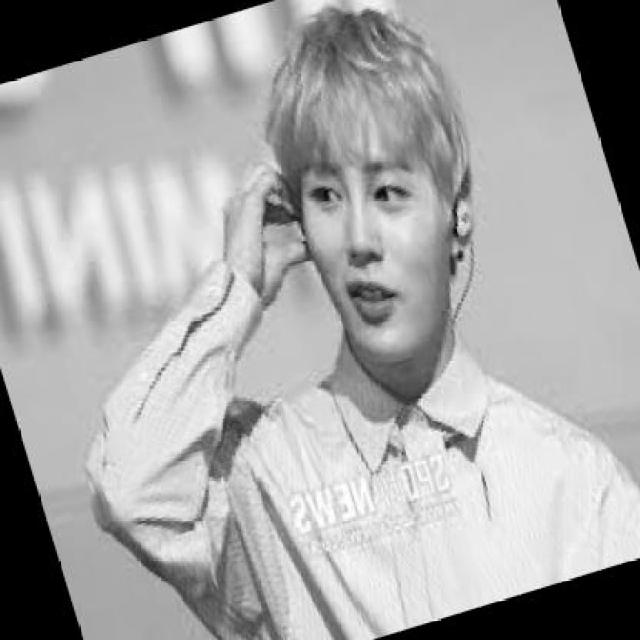earphone: (453, 198, 482, 252)
